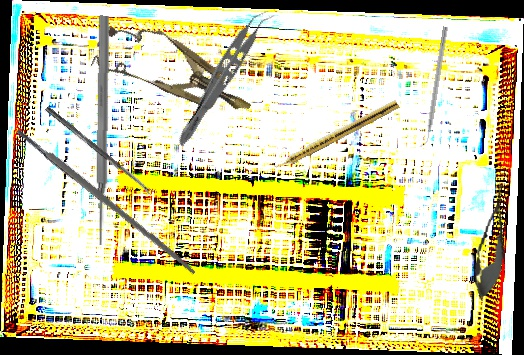Chopper: (416, 25, 449, 149)
Handpiece: (271, 97, 400, 173)
Micro Scissor: (467, 180, 517, 304)
Pusher: (92, 15, 112, 246)
Scalpel Handle: (15, 125, 198, 277)
Speculum: (89, 10, 264, 136)
Surgical Spoon: (44, 105, 154, 197)
Tissue Forceps: (173, 2, 277, 155)
